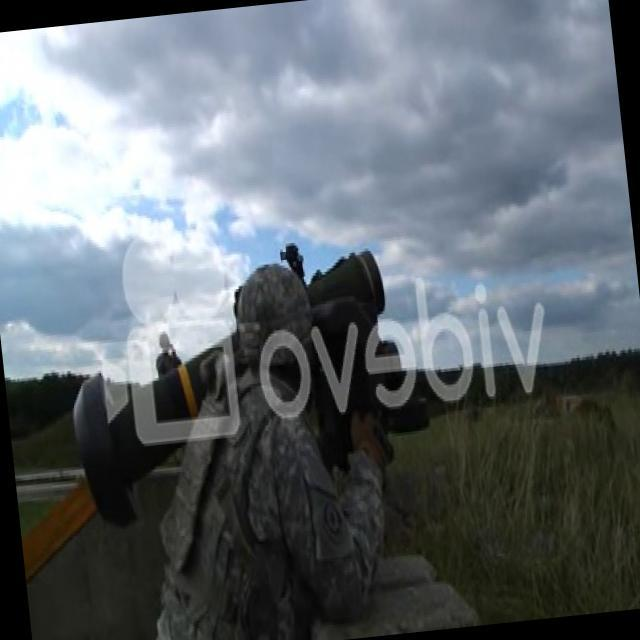rocket: (65, 328, 252, 531)
